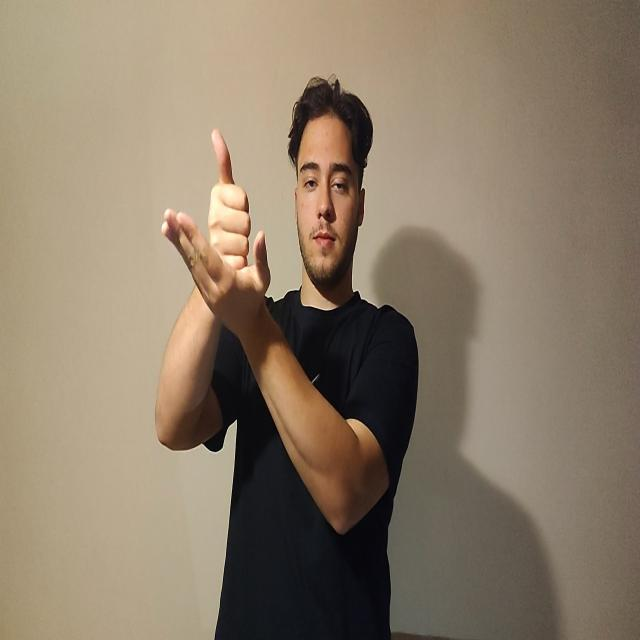help: (158, 129, 271, 322)
